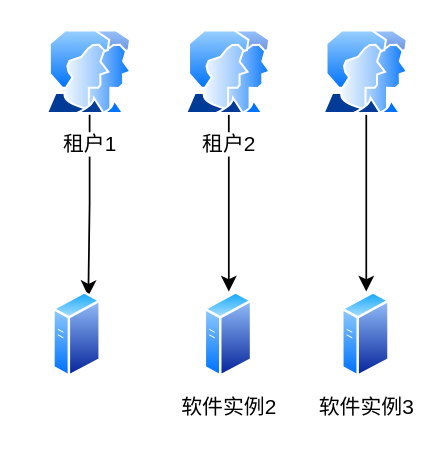
The diagram is 444 pixels wide and 449 high, and some of its shapes have lost their labels. Here are the shapes that lost their labels. From the top down, the box of each, then its label:
(322, 30, 409, 114): 租户3
(52, 291, 101, 378): 软件实例1
